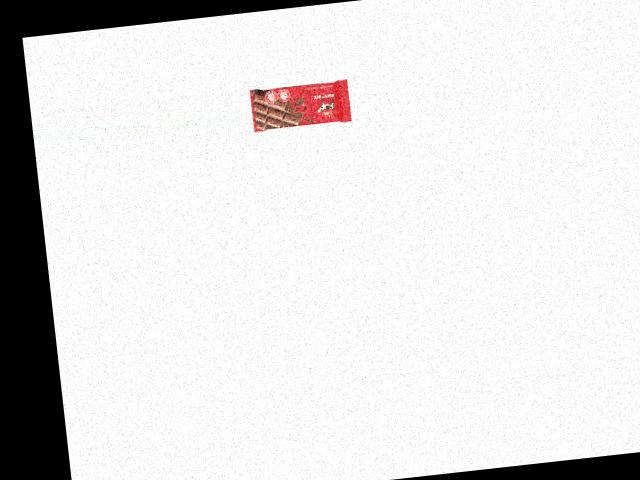chocolate: (249, 78, 353, 131)
